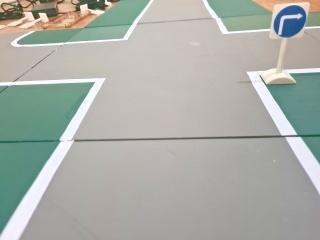right: (268, 4, 312, 40)
